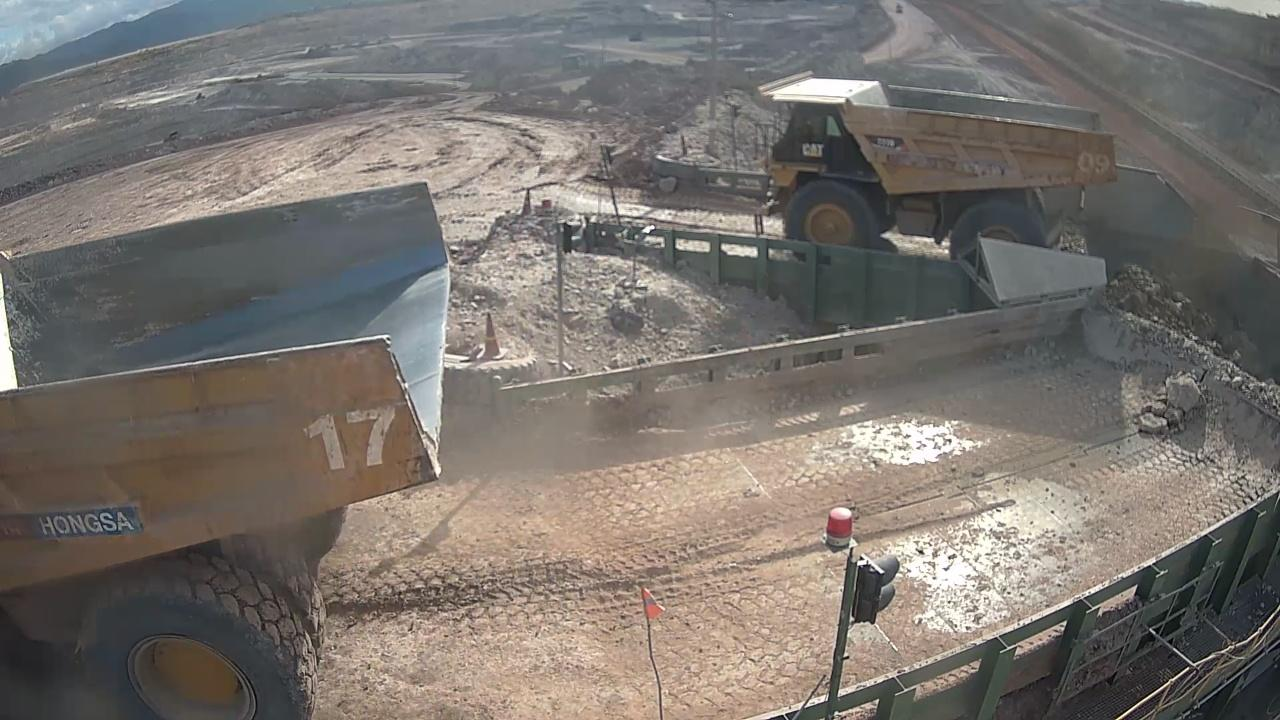empty_load: (59, 211, 436, 389), (872, 72, 1089, 140)
mining_truck: (0, 177, 510, 720), (746, 43, 1128, 289)
tail_number: (296, 403, 396, 474), (1074, 151, 1117, 182)
